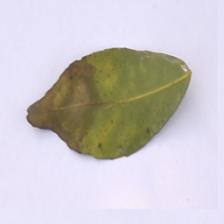black spot: (20, 61, 110, 143)
